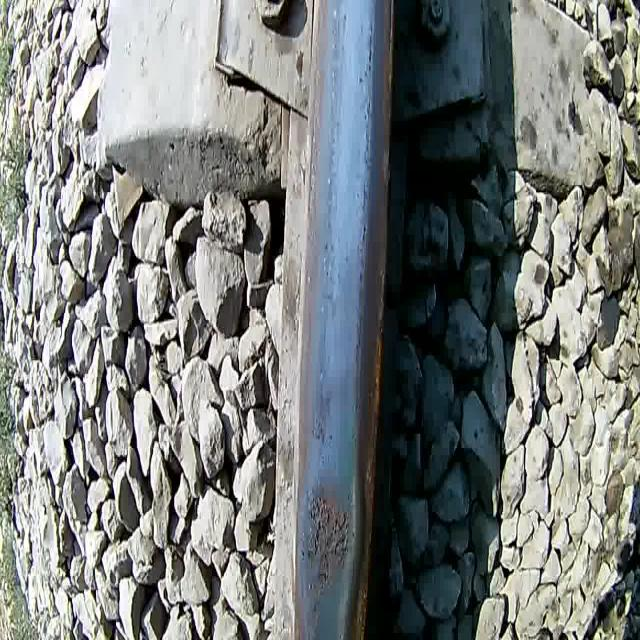Spallings: (302, 491, 353, 587)
Squats: (298, 470, 358, 640)
